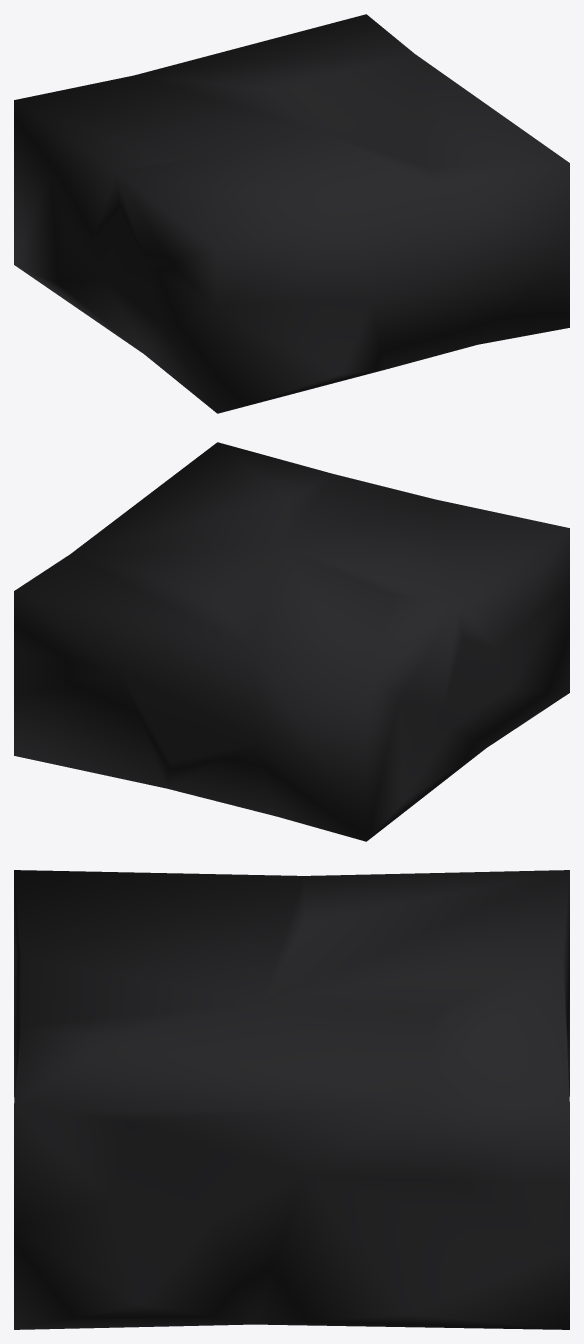
The model's file is underrock_2.glb.
The picture shows the model from 3 angles, top to bottom: view 1: azimuth 30°, elevation 25°; view 2: azimuth 150°, elevation 25°; view 3: azimuth 270°, elevation 25°; orthographic projection. The views are drawn at different scales.
Visible parts, largest first — view 1: underrock_2; view 2: underrock_2; view 3: underrock_2.
Boxes of the visible parts, x1=… form: underrock_2: x1=14, y1=14, x2=569, y2=413; underrock_2: x1=14, y1=442, x2=569, y2=841; underrock_2: x1=14, y1=870, x2=569, y2=1329.
Size of the model in its own units: 2.8 by 1.25 by 2.8.
Materials: 1 (1 with a texture image).
